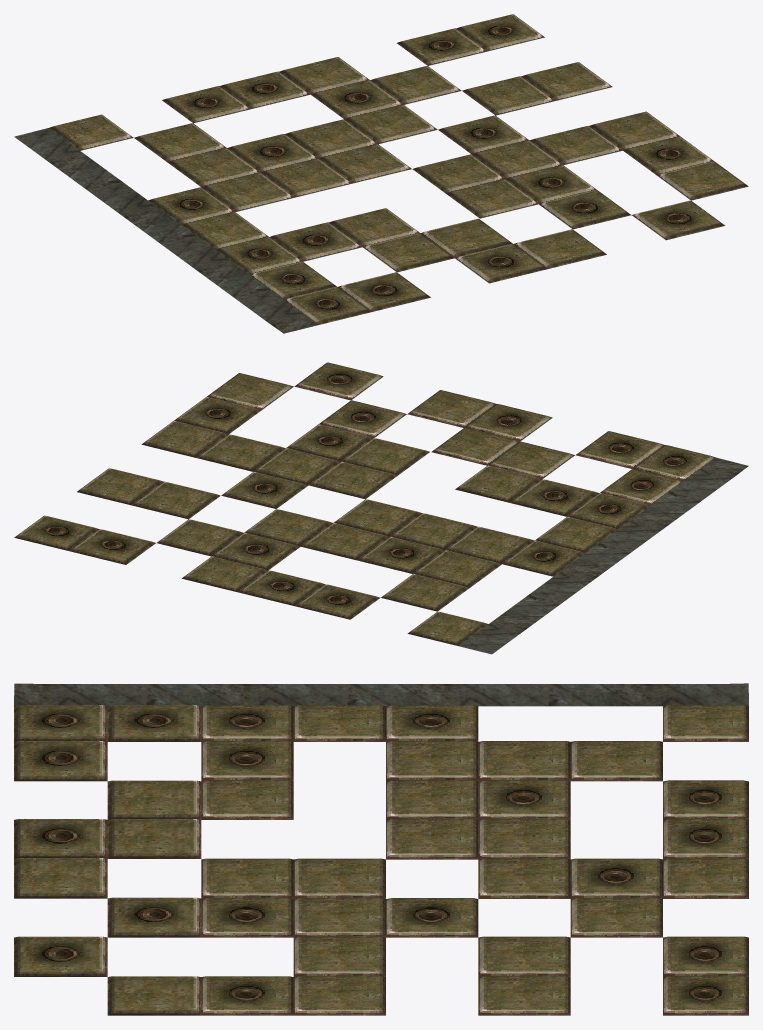
The model's file is DWARF_PALACE_EREBOR_PZL_TILE_SURFACE.obj.
The picture shows the model from 3 angles, top to bottom: view 1: azimuth 30°, elevation 25°; view 2: azimuth 150°, elevation 25°; view 3: azimuth 270°, elevation 25°; orthographic projection. The views are drawn at different scales.
Parts seen in each view (by area): view 1: zl_tile_surface; view 2: zl_tile_surface; view 3: zl_tile_surface.
Boxes of the visible parts, box(x1,y1,x2,y2) form: zl_tile_surface: box(14, 14, 748, 333); zl_tile_surface: box(14, 362, 748, 654); zl_tile_surface: box(14, 683, 748, 1015).
Size of the model in its own units: 860 by 4.53 by 803.
